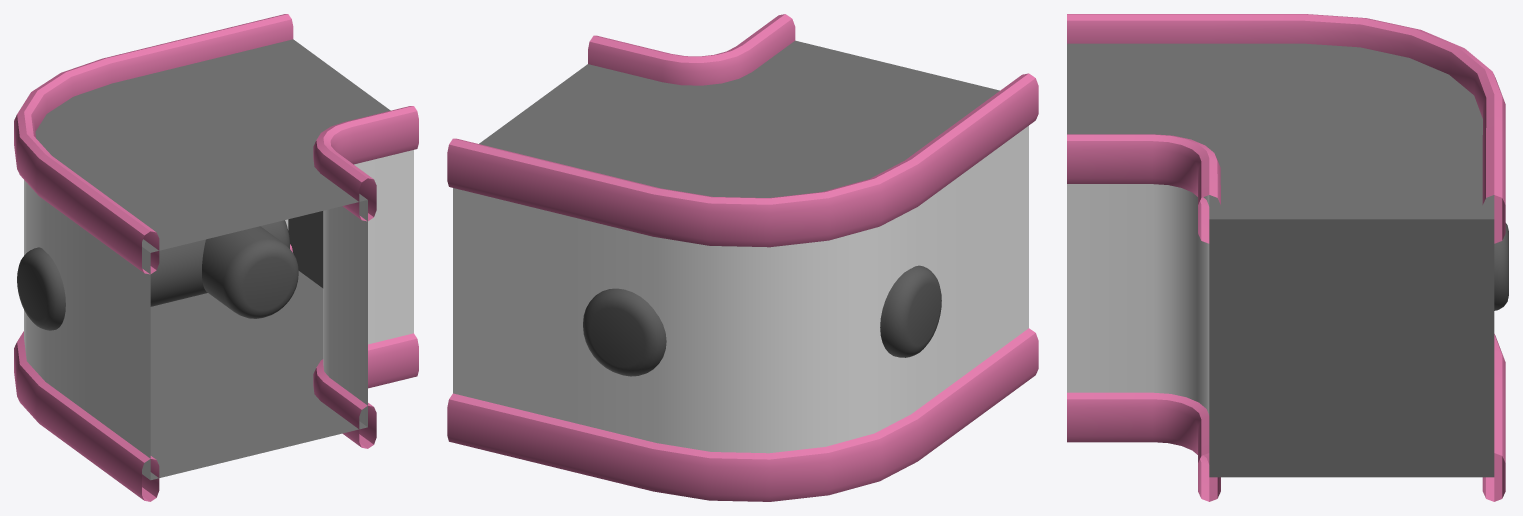
The model's file is parca4.fbx.
The picture shows the model from 3 angles, left to right: view 1: azimuth 30°, elevation 25°; view 2: azimuth 150°, elevation 25°; view 3: azimuth 270°, elevation 25°; orthographic projection. The views are drawn at different scales.
Parts seen in each view (by area): view 1: 4; view 2: 4; view 3: 4.
Boxes of the visible parts, x1=… form: 4: x1=14, y1=14, x2=418, y2=501; 4: x1=447, y1=14, x2=1038, y2=501; 4: x1=1067, y1=14, x2=1508, y2=501.
Size of the model in its own units: 3.11 by 2.38 by 3.1.
